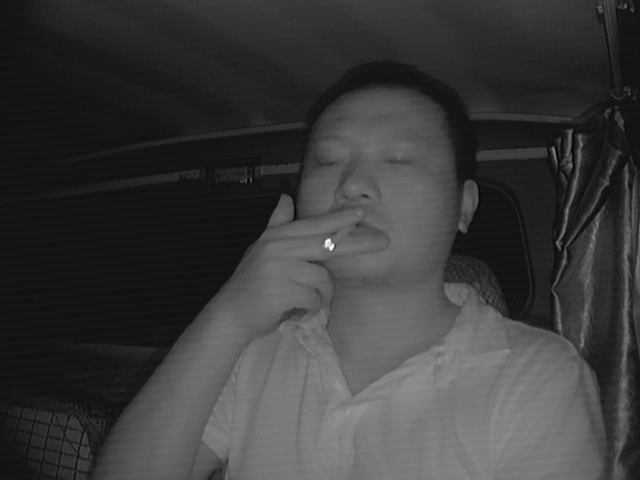hand: (272, 205, 383, 316)
